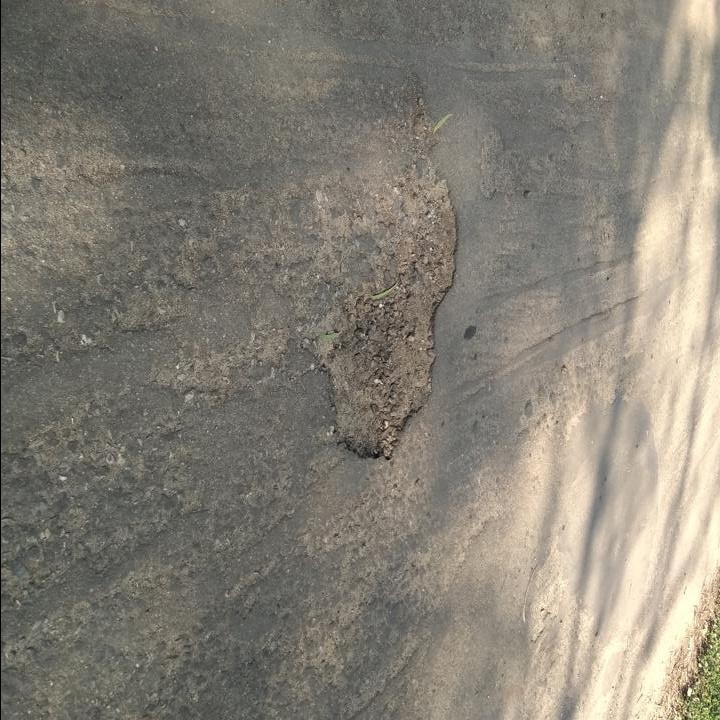pothole: (303, 153, 463, 465)
